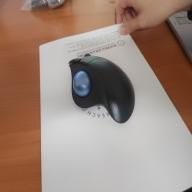mouse: (68, 52, 135, 124)
